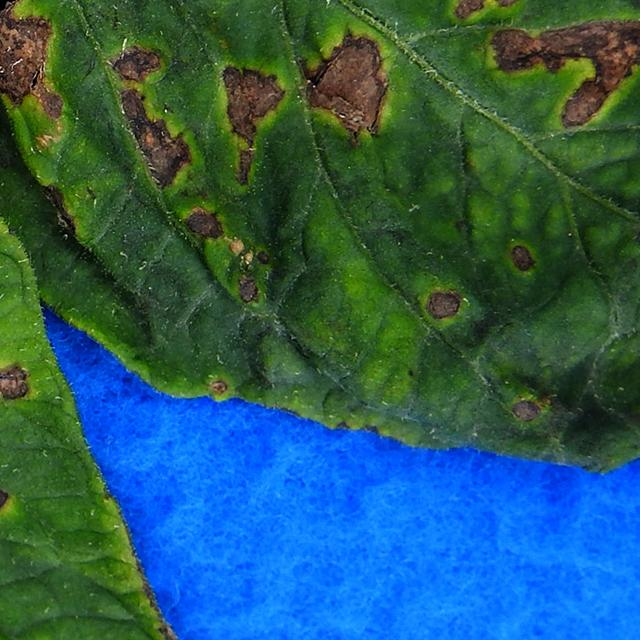Tomato leaf bacterial spot: (0, 0, 640, 500), (0, 0, 294, 640)
